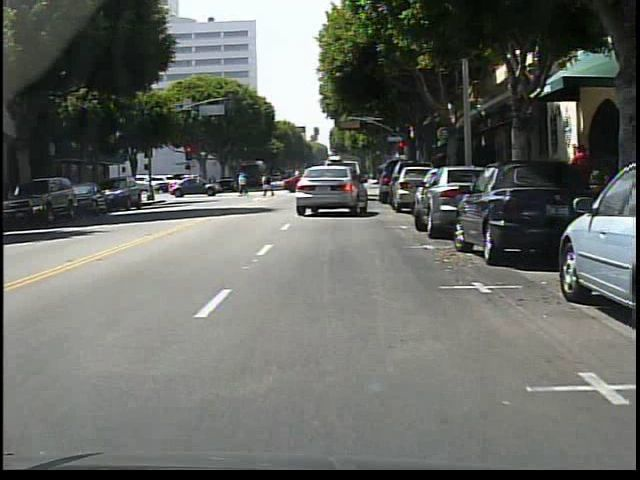person: (570, 142, 598, 220), (265, 169, 277, 198), (237, 172, 251, 196), (264, 174, 265, 191)
